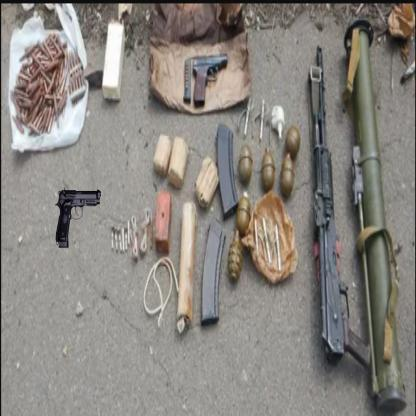Grenade: (228, 231, 244, 285), (261, 145, 276, 192), (281, 154, 295, 199), (237, 190, 251, 234), (239, 142, 253, 185), (286, 124, 301, 158)
Gun: (341, 19, 407, 414), (309, 41, 373, 372)
Pistol: (56, 181, 101, 250), (182, 53, 229, 106)
